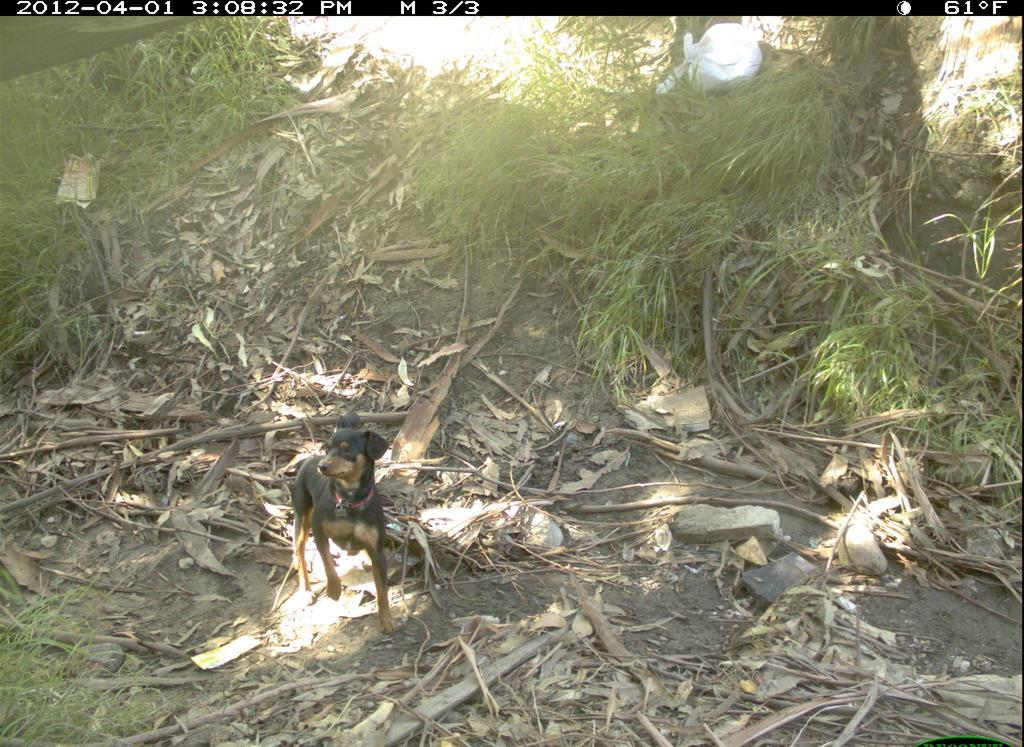dog: (264, 406, 425, 649)
